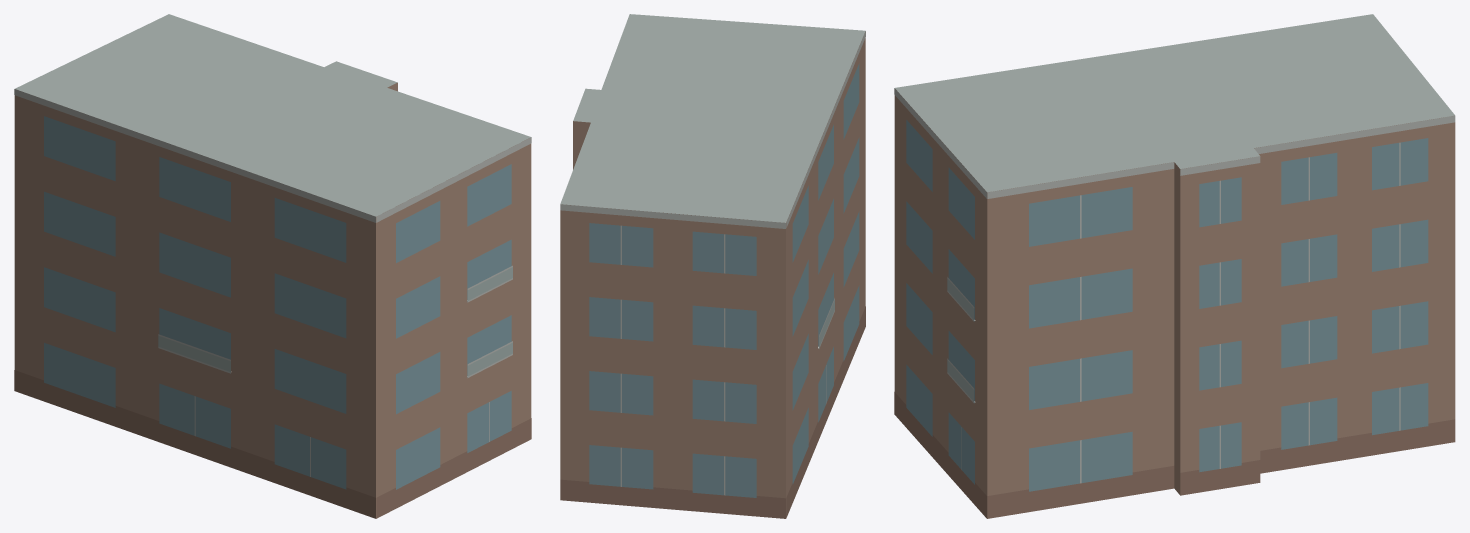
File: survey-upis-32810105.glb
3 renders of one model, left to right at view 1: azimuth 30°, elevation 25°; view 2: azimuth 150°, elevation 25°; view 3: azimuth 270°, elevation 25°, orthographic. The views are drawn at different scales.
Parts seen in each view (by area): view 1: survey-upis-32810105.tmp; view 2: survey-upis-32810105.tmp; view 3: survey-upis-32810105.tmp.
Part boxes in pixels (x1,y1,x2,y2): survey-upis-32810105.tmp: (14,14,531,518); survey-upis-32810105.tmp: (560,14,865,518); survey-upis-32810105.tmp: (894,14,1455,518).
Bounding box in the file's own units: 13.72 × 11.7 × 18.22.
